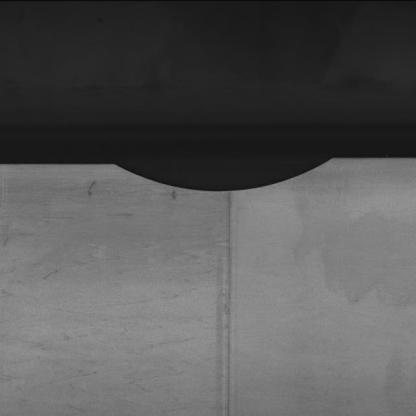crescent_gap: (90, 146, 353, 200)
welding_line: (209, 181, 254, 416)
